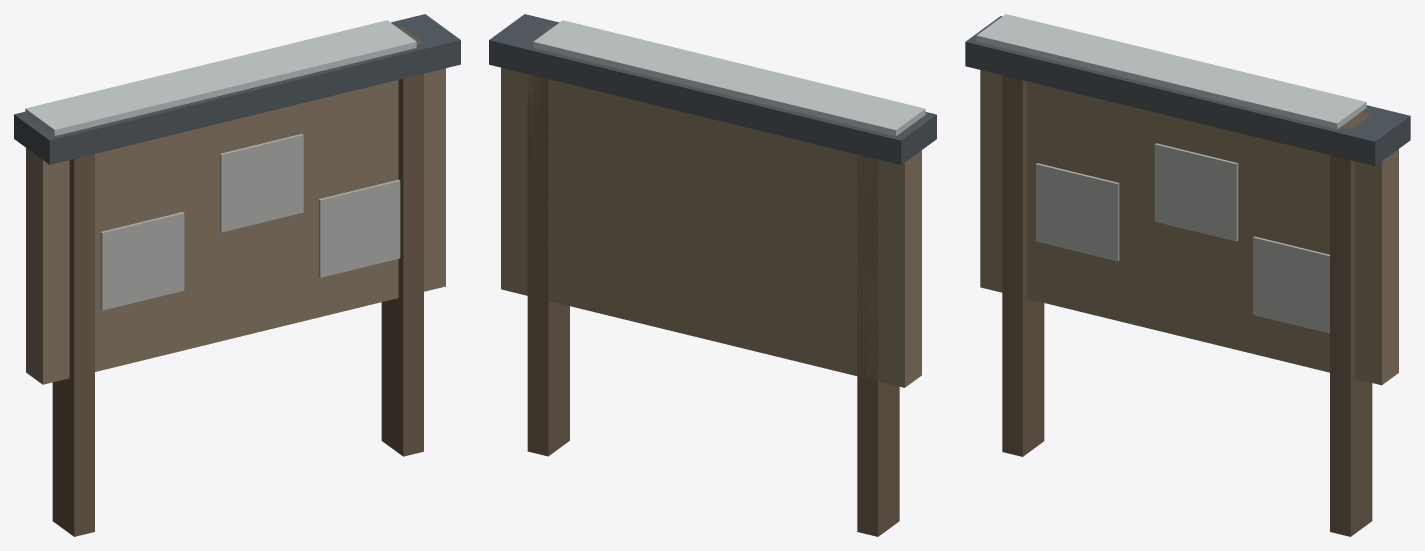
File: notice_board.glb
The picture shows the model from 3 angles, left to right: view 1: azimuth 30°, elevation 25°; view 2: azimuth 150°, elevation 25°; view 3: azimuth 330°, elevation 25°; orthographic projection.
Visible parts, largest first — view 1: notice_board; view 2: notice_board; view 3: notice_board.
Boxes of the visible parts, x1,y1,x2,y2 form: notice_board: (14, 14, 460, 536); notice_board: (489, 14, 936, 536); notice_board: (965, 14, 1410, 536).
Bounding box in the file's own units: 1.92 × 1.85 × 0.288.
